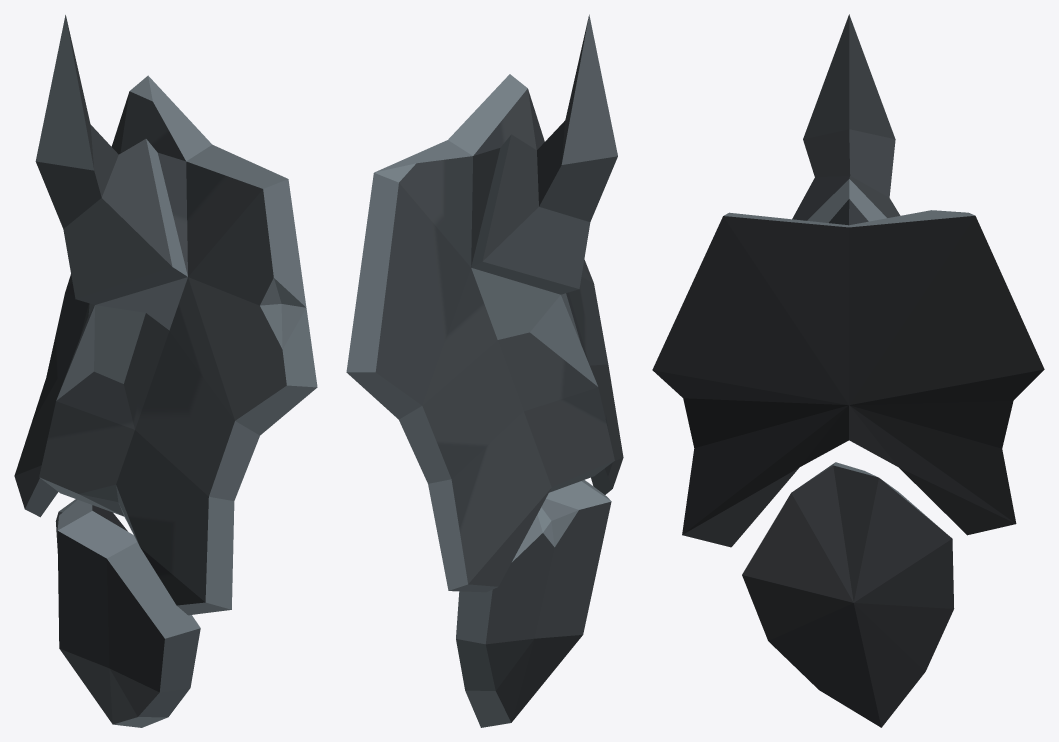
File: SM_Chr_Attach_Armour_Dark_Leg_RR_Wolf_01.fbx
The picture shows the model from 3 angles, left to right: view 1: azimuth 30°, elevation 25°; view 2: azimuth 150°, elevation 25°; view 3: azimuth 270°, elevation 25°; orthographic projection. The views are drawn at different scales.
Parts seen in each view (by area): view 1: SM_Chr_Attach_Armour_Dark_Leg_RR_Wolf_01; view 2: SM_Chr_Attach_Armour_Dark_Leg_RR_Wolf_01; view 3: SM_Chr_Attach_Armour_Dark_Leg_RR_Wolf_01.
Boxes of the visible parts, x1,y1,x2,y2 form: SM_Chr_Attach_Armour_Dark_Leg_RR_Wolf_01: (14,15,317,727); SM_Chr_Attach_Armour_Dark_Leg_RR_Wolf_01: (346,14,623,727); SM_Chr_Attach_Armour_Dark_Leg_RR_Wolf_01: (652,14,1044,727).
Bounding box in the file's own units: 11.59 × 45.43 × 24.02.
